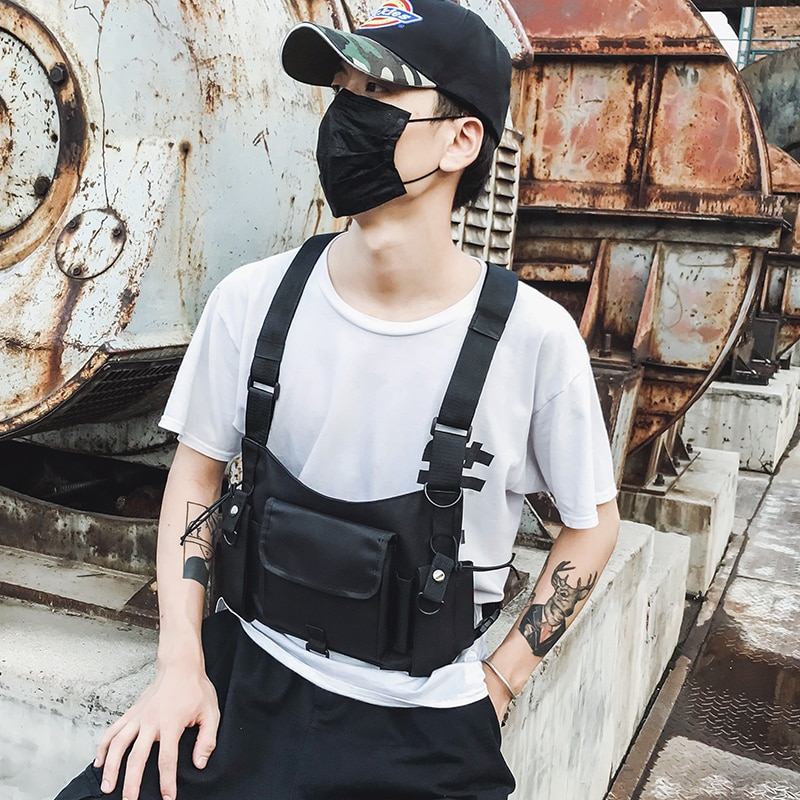Accessories|Hats: (283, 1, 518, 136)
Bottoms|Pants: (47, 643, 511, 800)
Men's Backpacks: (208, 246, 517, 678)
Tops: (150, 237, 626, 702)
